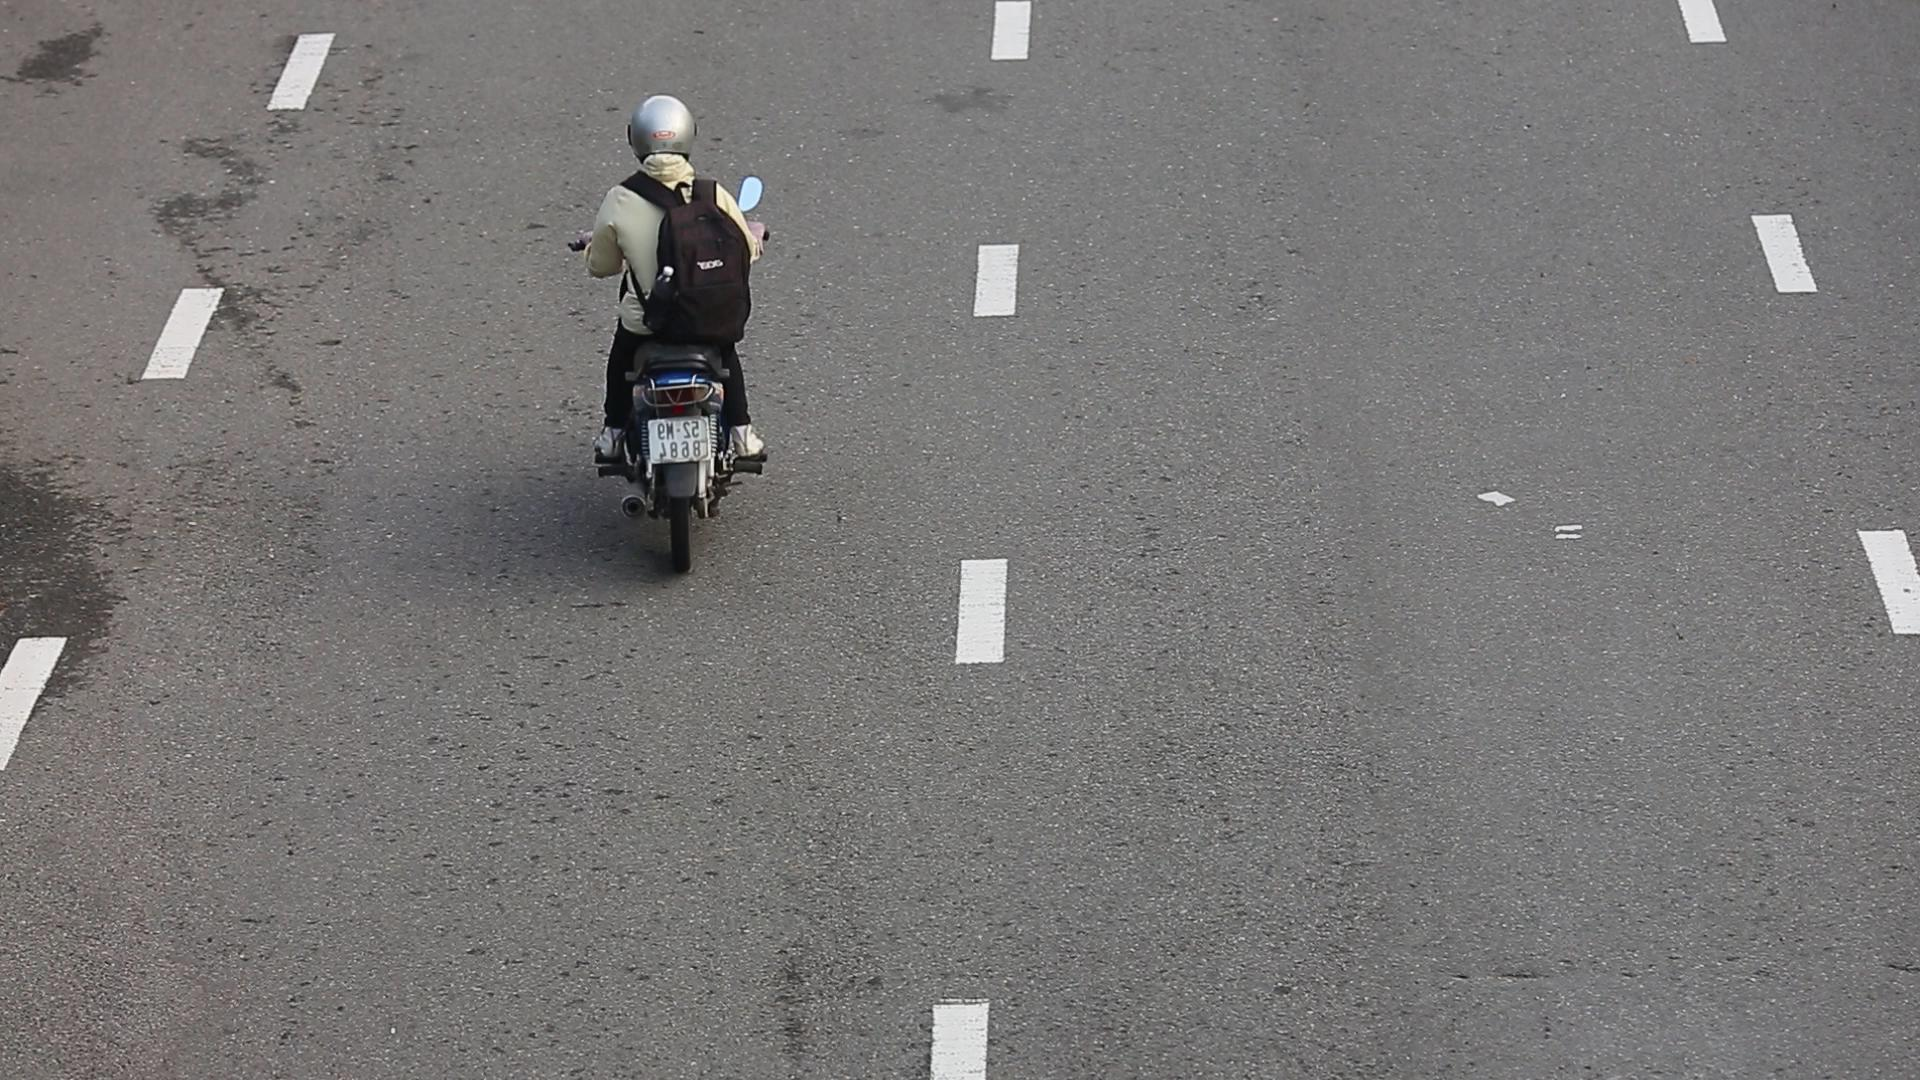motobike: (555, 94, 793, 572)
